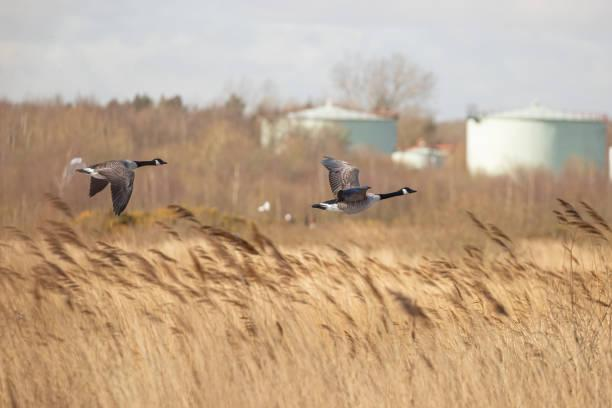Canadian-Goose: (309, 156, 419, 219), (75, 154, 176, 218)
